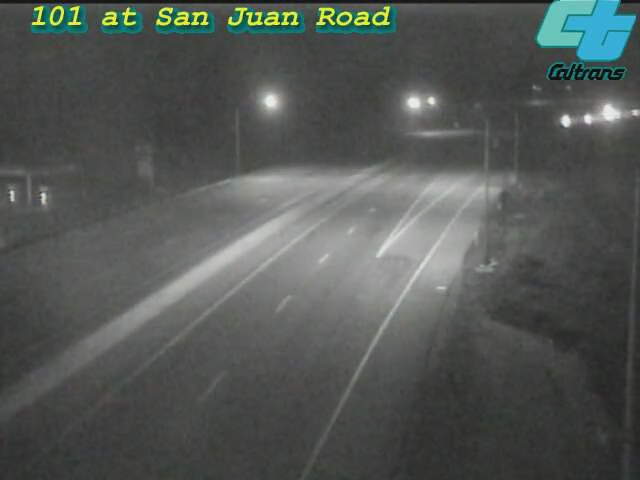vehicle: (563, 95, 613, 145), (539, 97, 589, 147), (582, 88, 632, 138), (592, 89, 640, 139), (611, 87, 640, 137)
